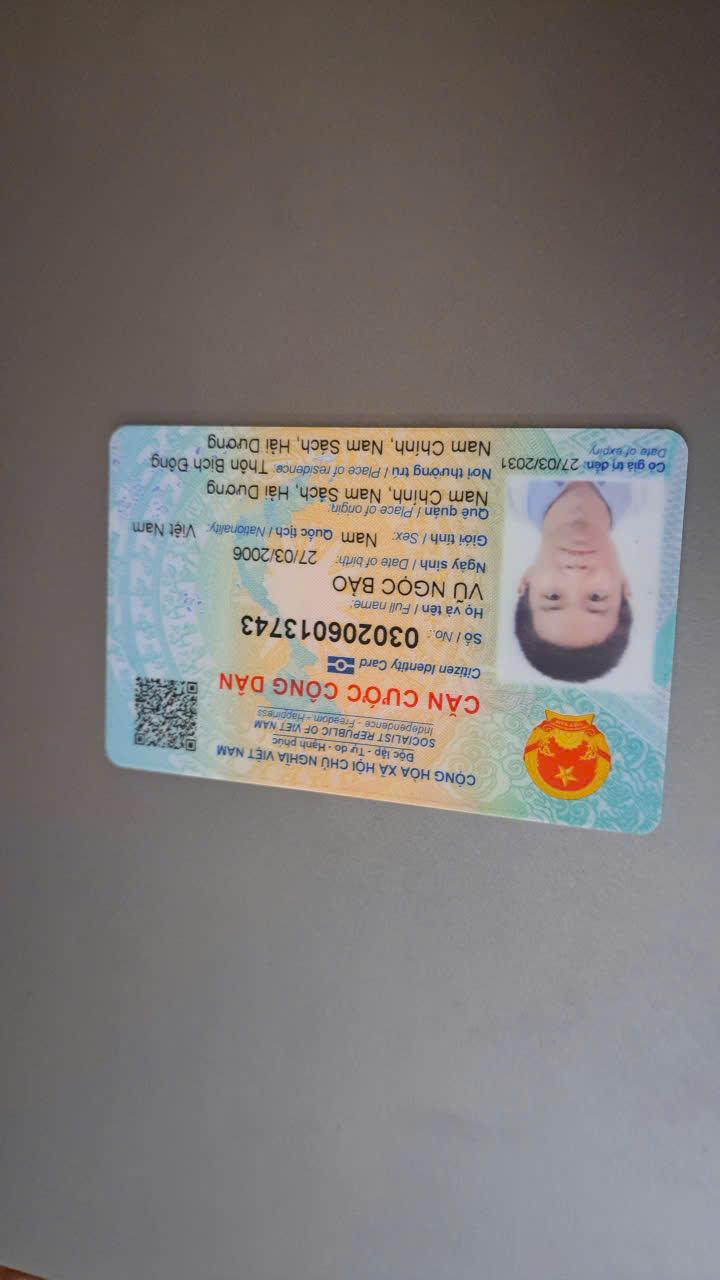cccd: (98, 417, 695, 848)
